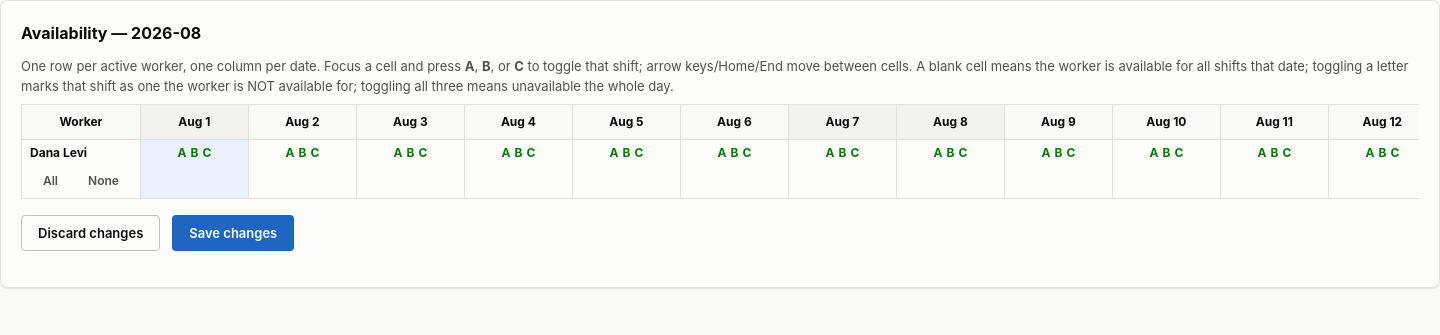
Test: AvailabilityGrid › falls back to a generic message for a non-badRequest save failure
The image size is (1440, 335).
Click the button "Save changes" at (233, 233), box [172,215,294,251]
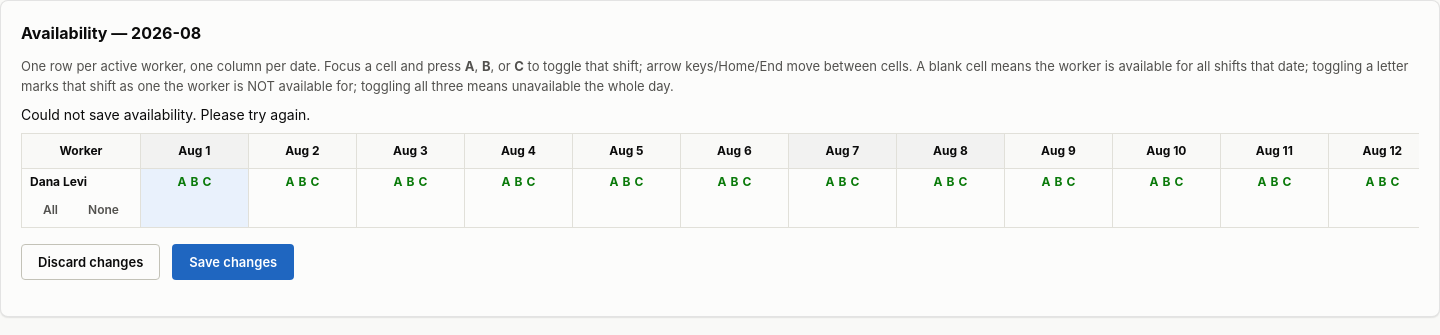
Expected: the text "Could not save availability. Please try again." is shown, [21,106,310,123]
